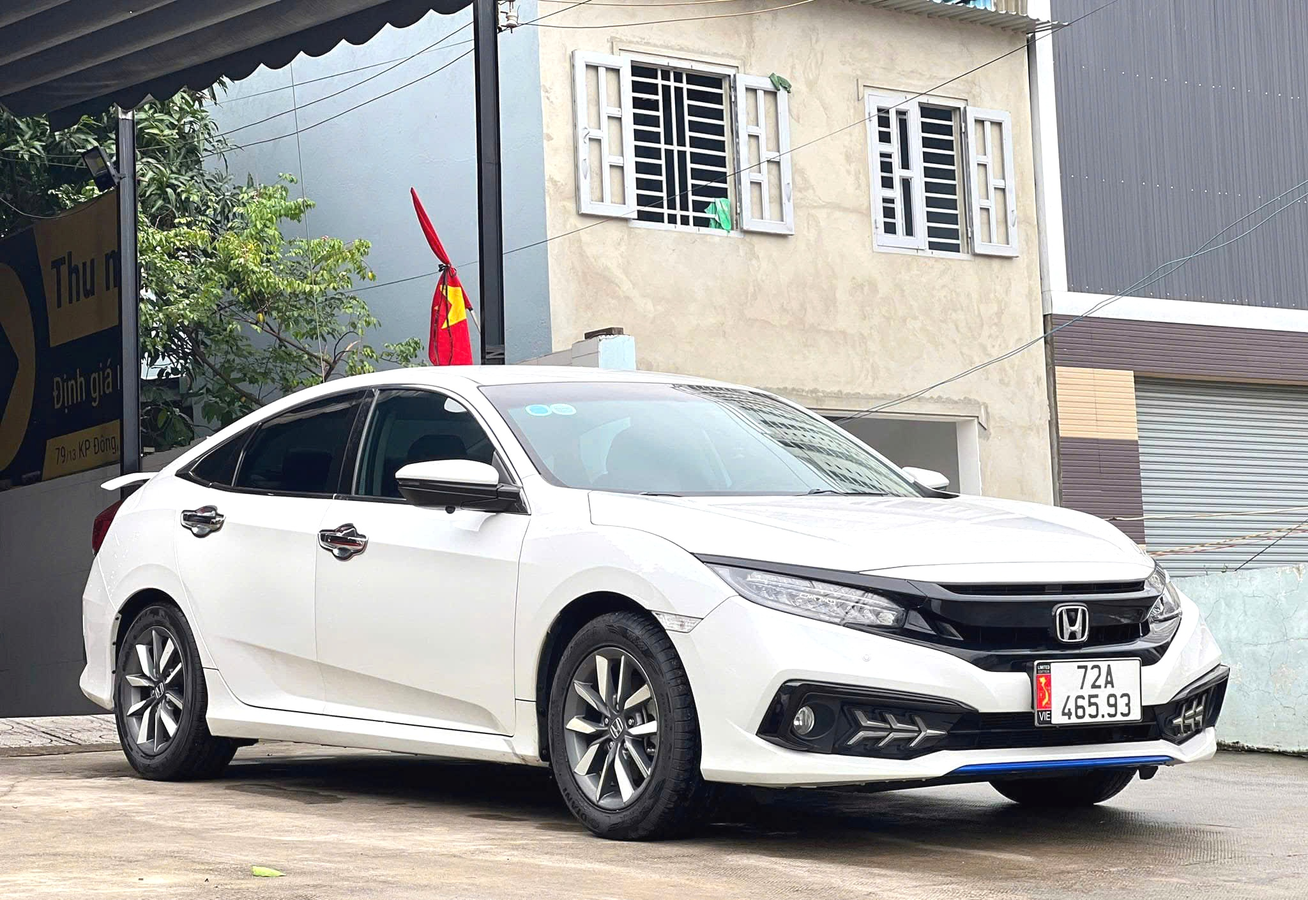Bien-so: (1026, 643, 1136, 725)
